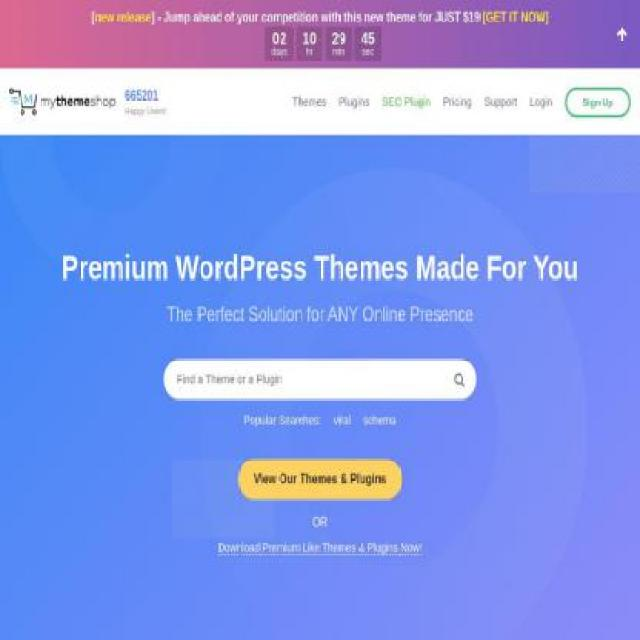button: (238, 459, 402, 499), (382, 68, 430, 135), (10, 89, 116, 116), (291, 68, 327, 135), (484, 68, 518, 135), (338, 68, 371, 135), (564, 87, 630, 118), (442, 68, 472, 135), (530, 68, 552, 135), (125, 89, 167, 116)
field: (164, 360, 476, 398)
